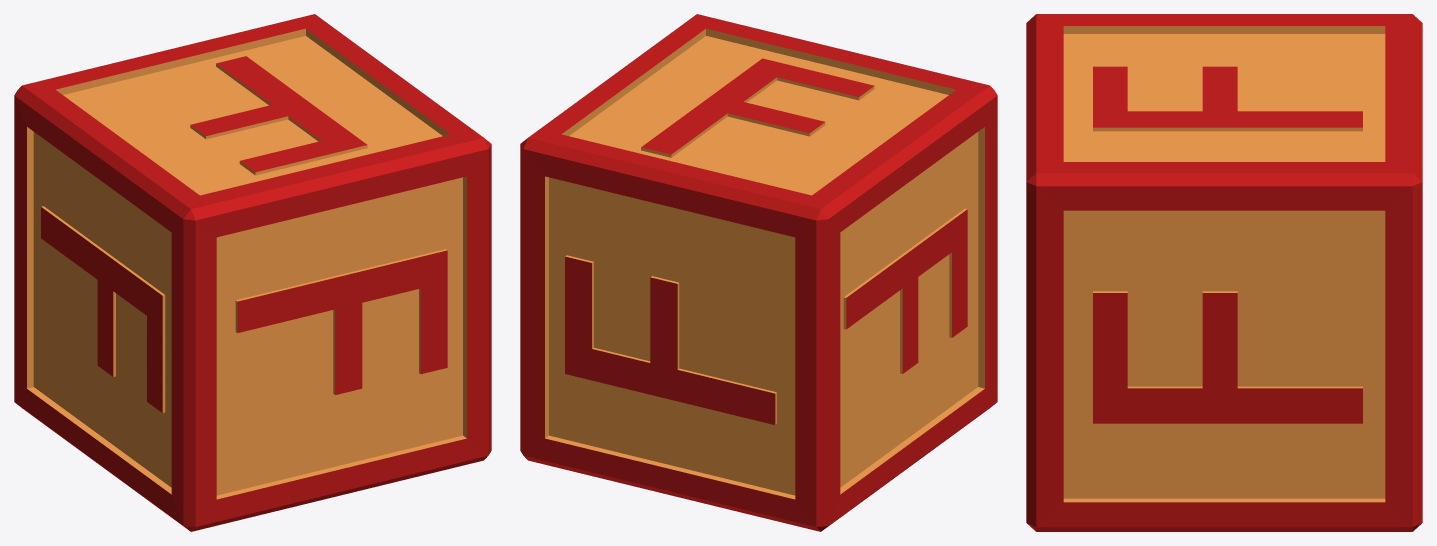
File: box_letter_f.obj
3 views of the same model, side by side, from view 1: azimuth 30°, elevation 25°; view 2: azimuth 150°, elevation 25°; view 3: azimuth 270°, elevation 25° (orthographic). The views are drawn at different scales.
Visible parts, largest first — view 1: Box; view 2: Box; view 3: Box.
Boxes of the visible parts, left/top/right/bottom form: Box: left=14, top=14, right=491, bottom=531; Box: left=520, top=14, right=997, bottom=531; Box: left=1026, top=14, right=1422, bottom=531.
Size of the model in its own units: 1 by 1 by 1.
